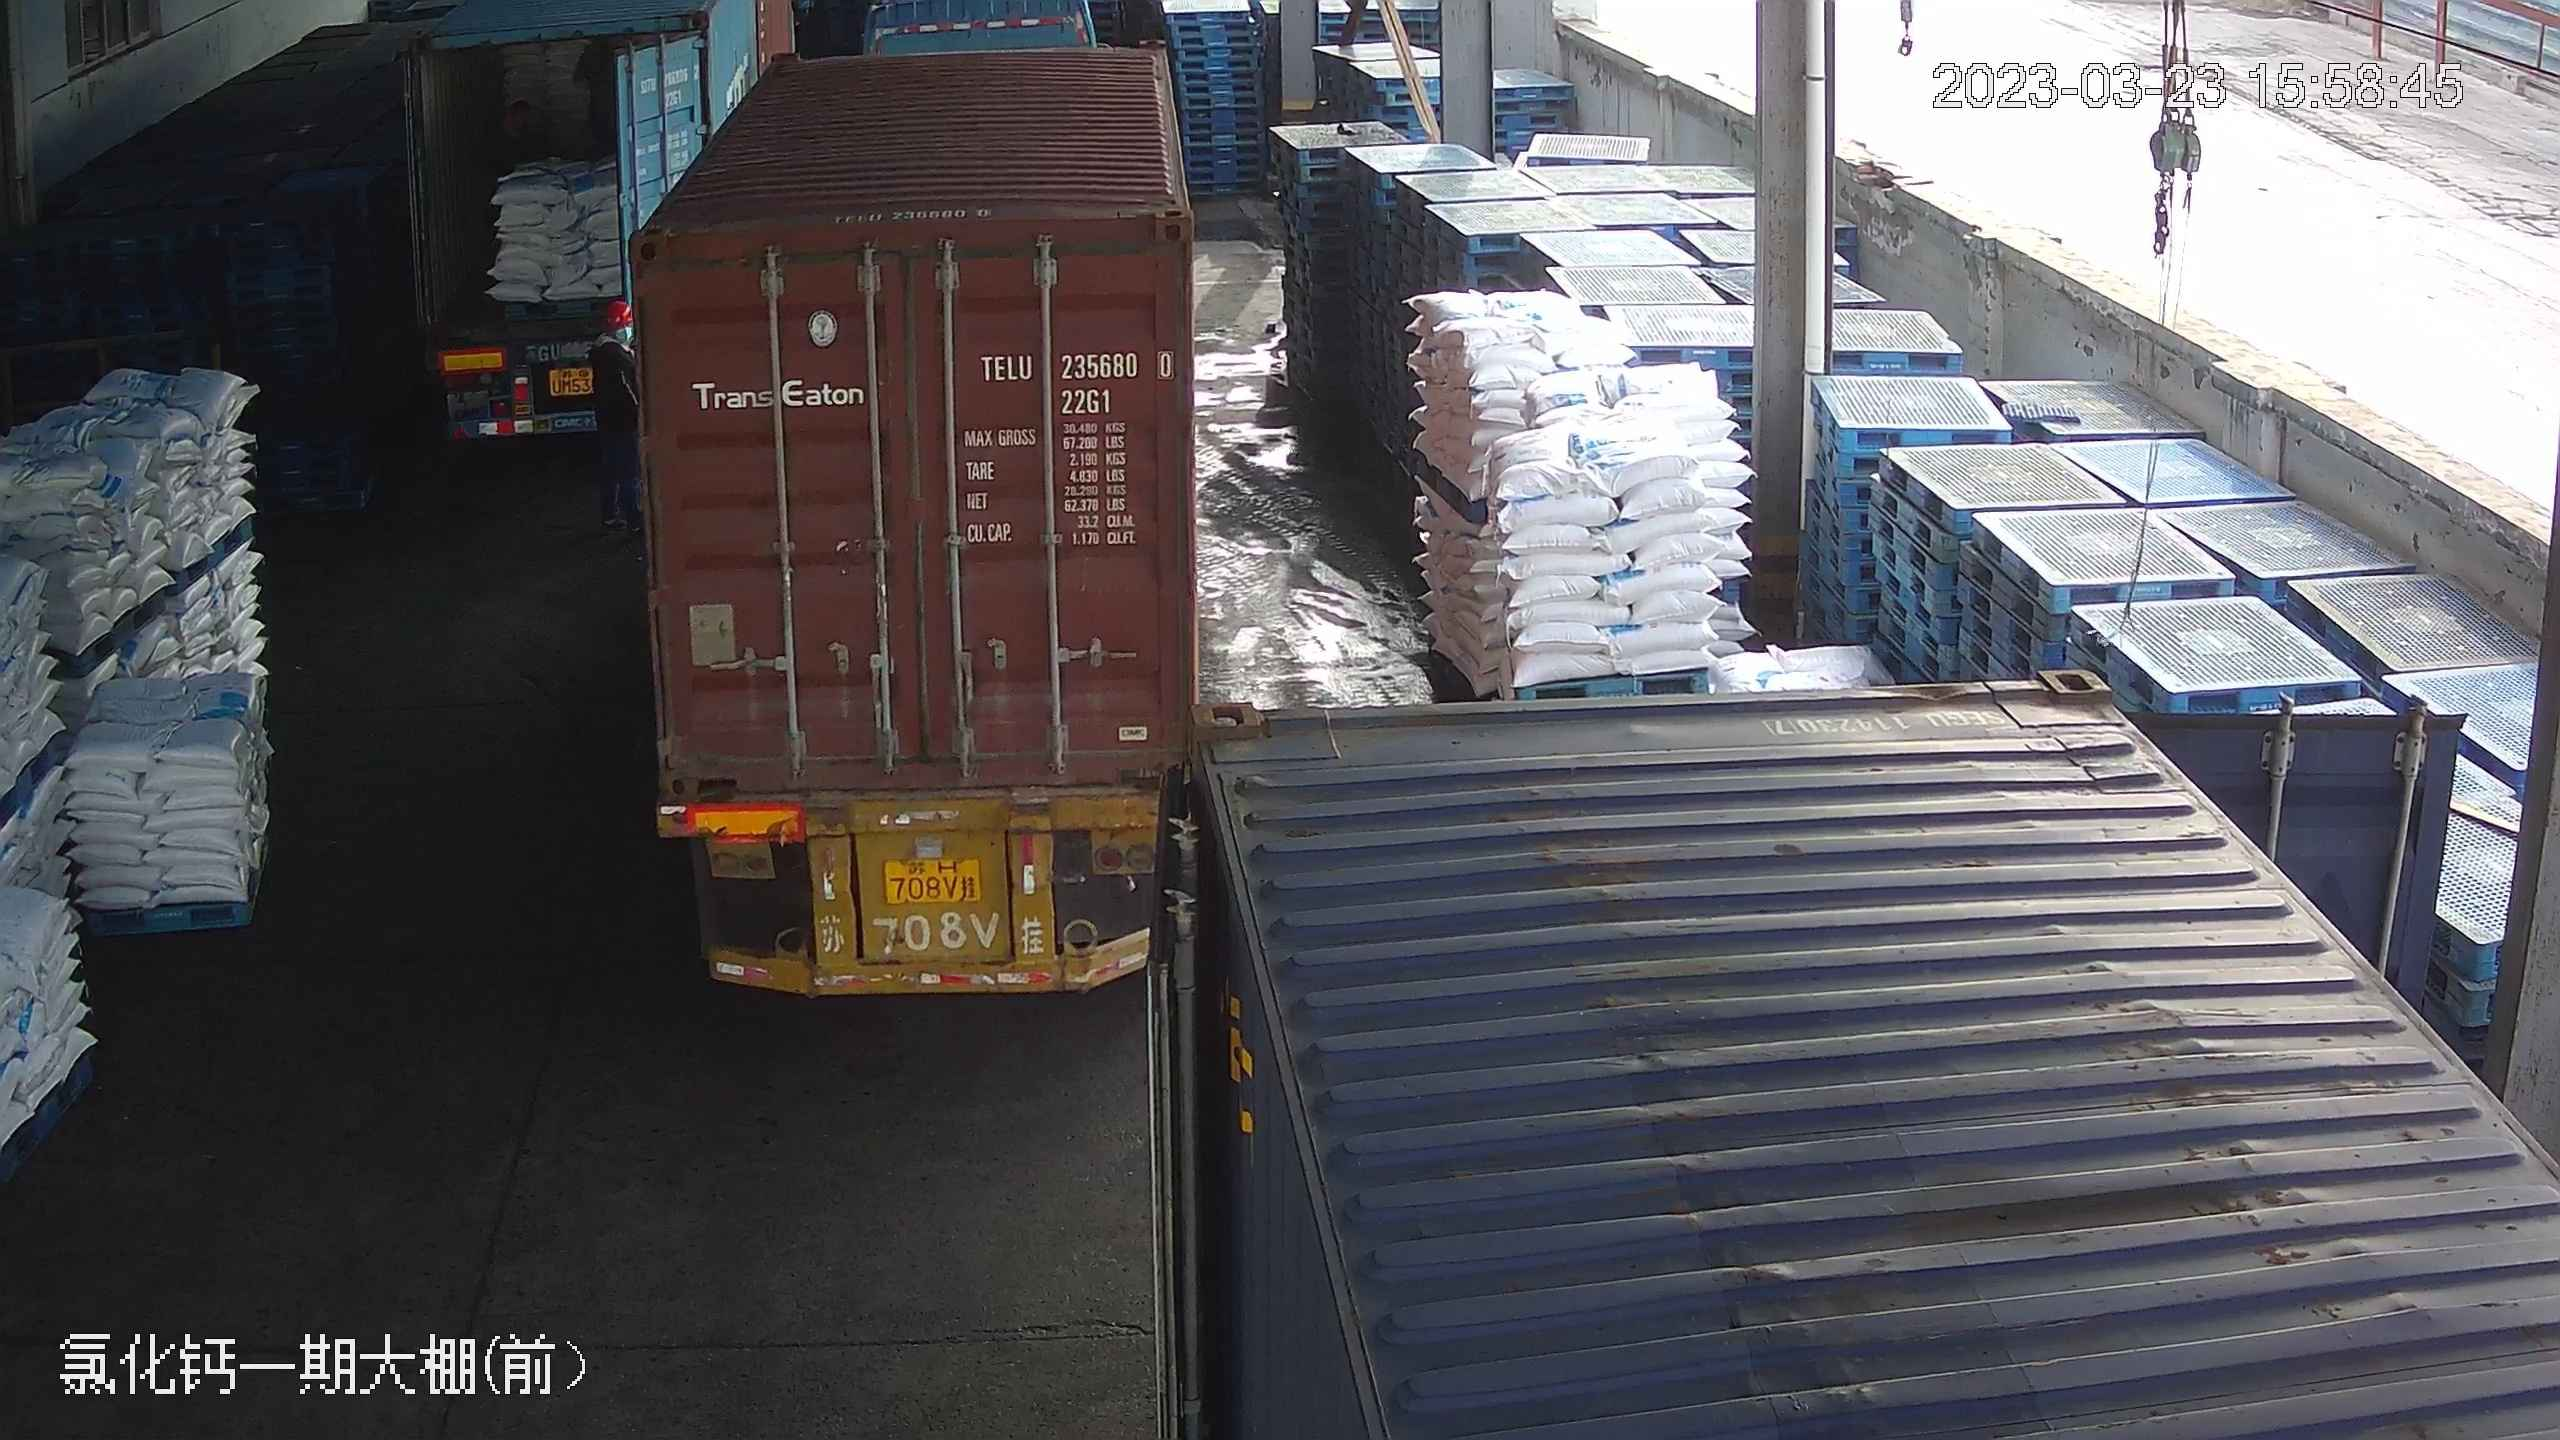head: (588, 298, 643, 374)
helmet: (587, 296, 640, 367), (598, 297, 632, 324)
people: (582, 295, 646, 541)
truck: (1216, 116, 2540, 1440), (611, 15, 1266, 1014), (397, 38, 665, 456)
